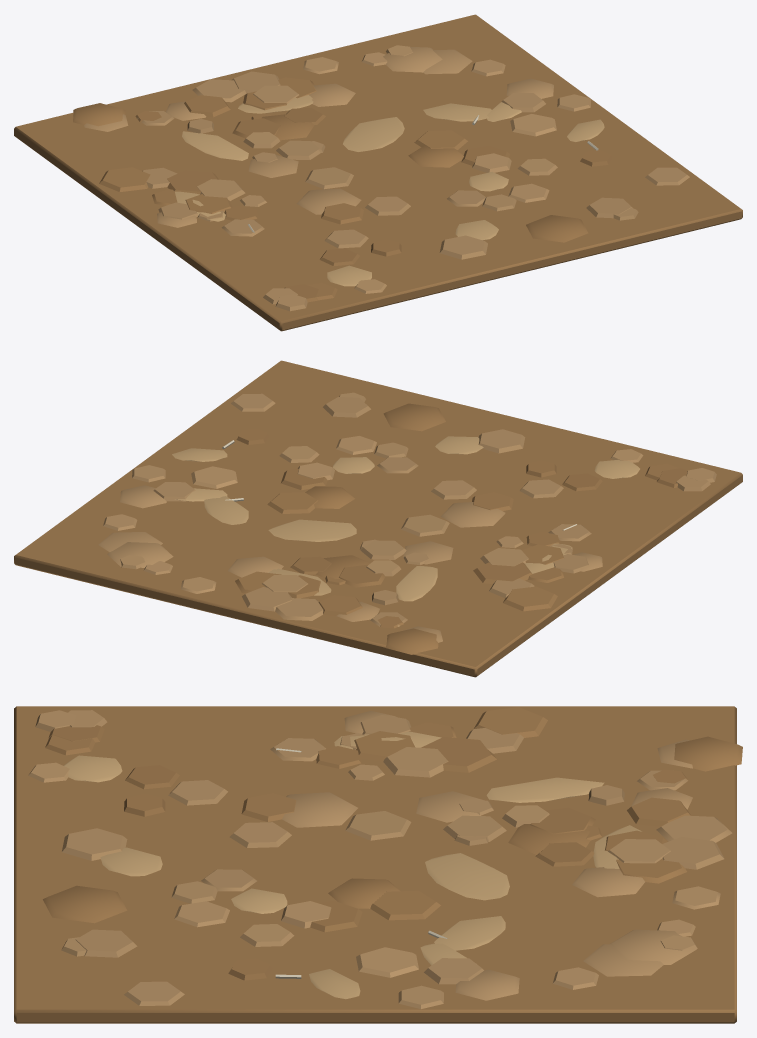
The model's file is cv_sand_floor.glb.
3 views of the same model, one above another, from view 1: azimuth 30°, elevation 25°; view 2: azimuth 150°, elevation 25°; view 3: azimuth 270°, elevation 25° (orthographic). The views are drawn at different scales.
Parts seen in each view (by area): view 1: body; view 2: body; view 3: body.
Boxes of the visible parts, x1=… form: body: x1=14, y1=14, x2=742, y2=331; body: x1=14, y1=360, x2=742, y2=677; body: x1=14, y1=706, x2=742, y2=1023.
Bounding box in the file's own units: 14 × 0.3999 × 14.11.
